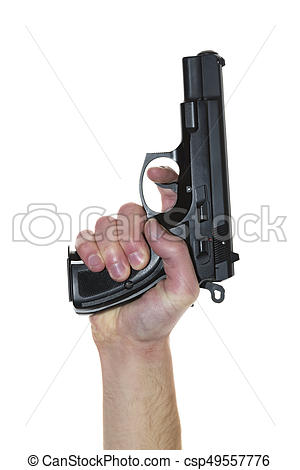pistol: (36, 28, 259, 339)
